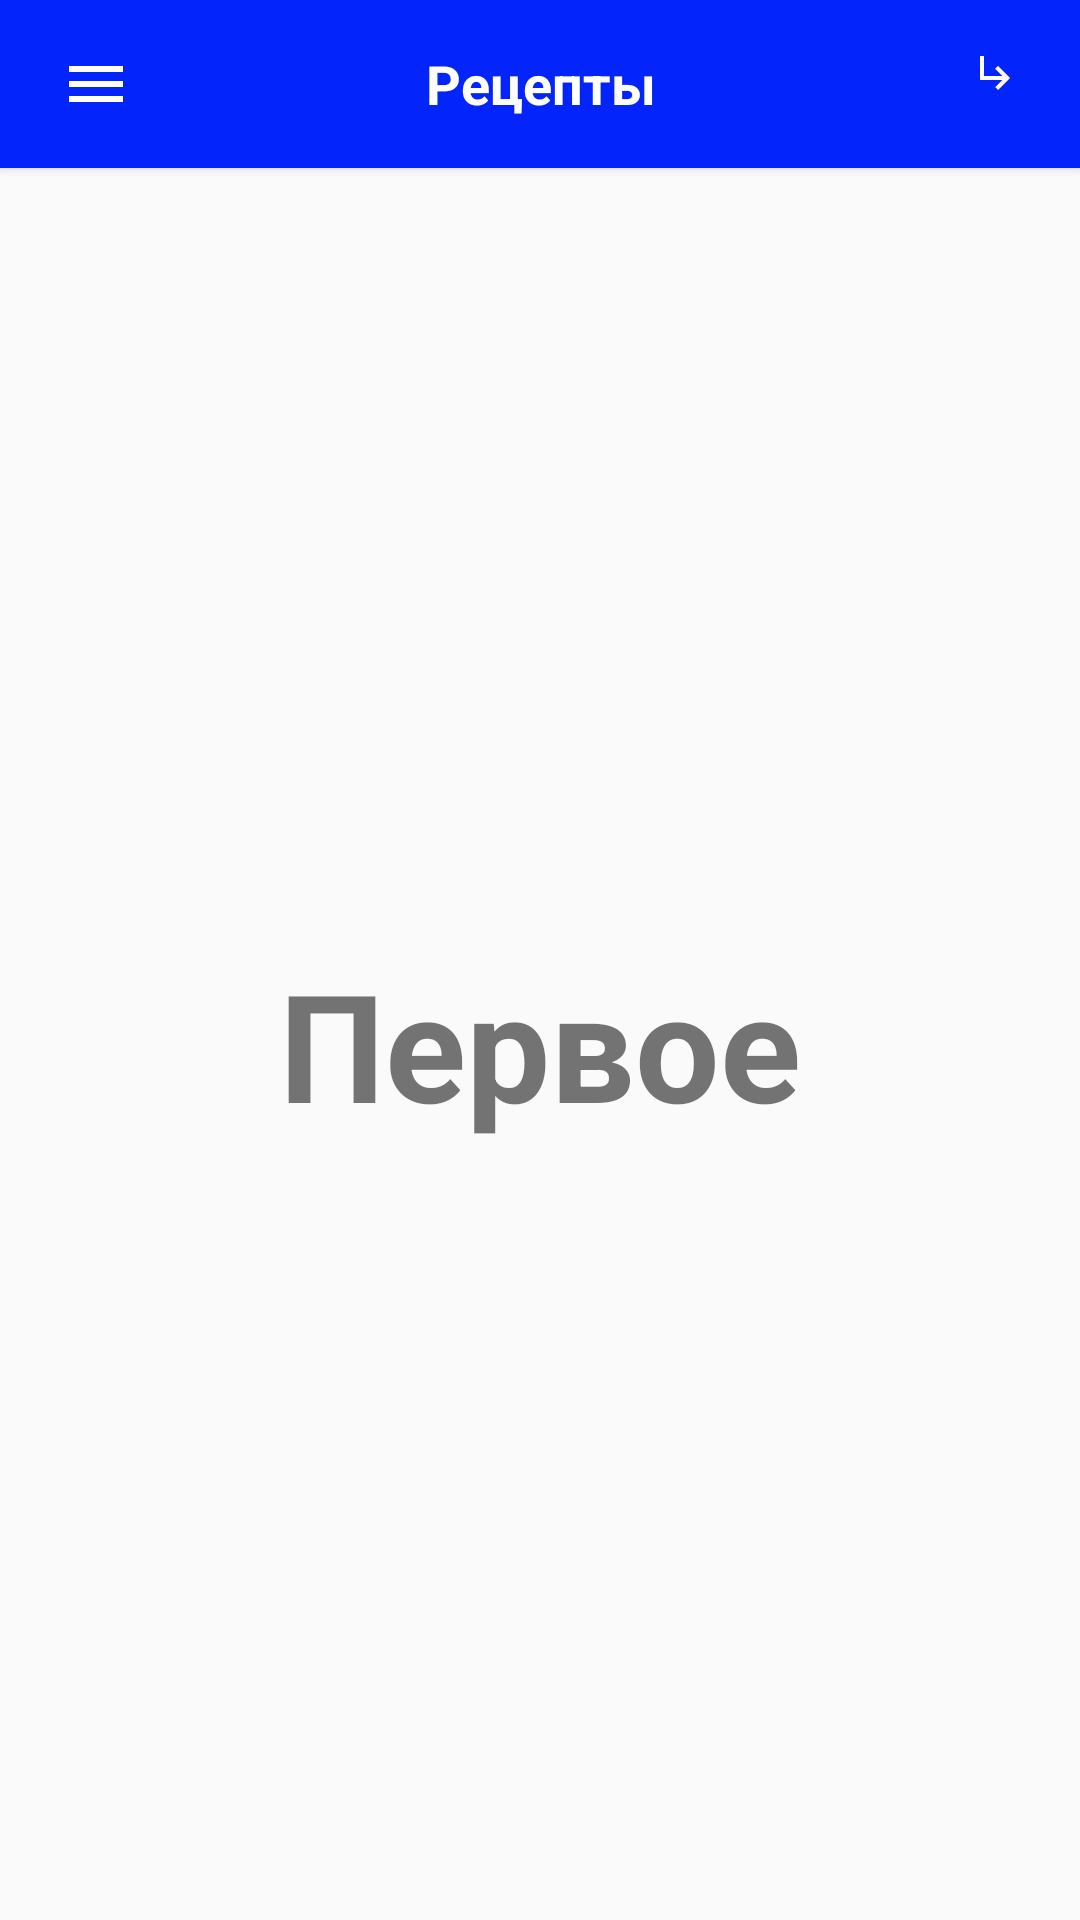

Where to tap for icons on this 1080px×1920px app screen, as point (x, y):
menu: point (96, 84)
subdirectory arrow right: point (995, 73)
